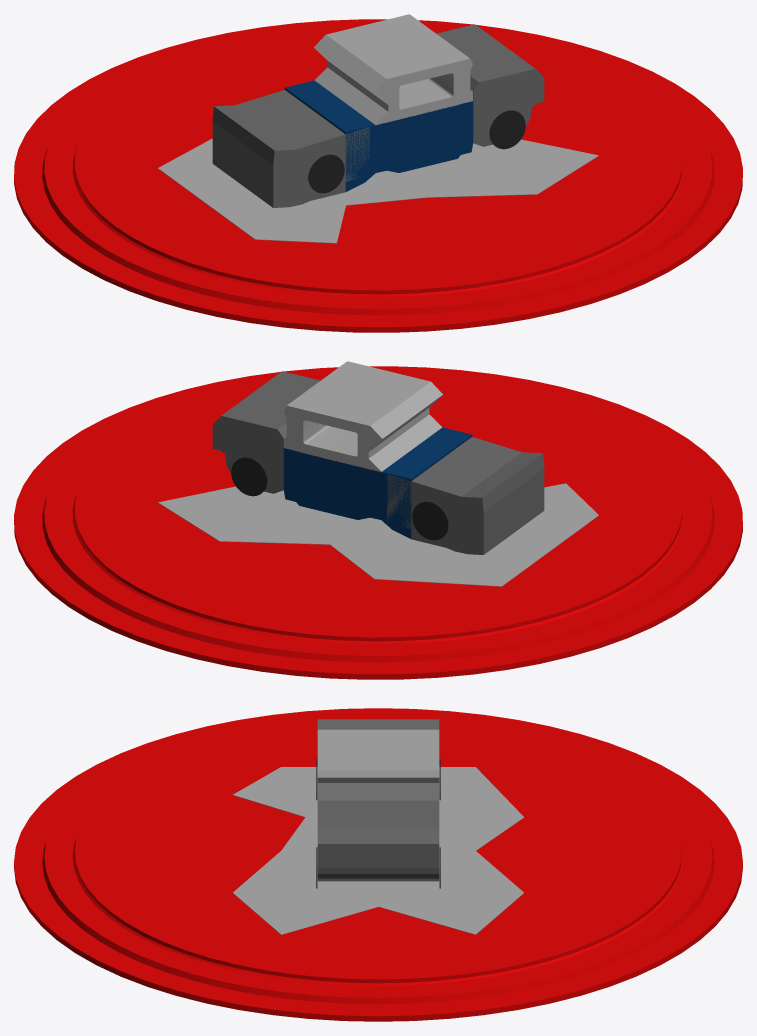
3 views of the same model, one above another, from view 1: azimuth 30°, elevation 25°; view 2: azimuth 150°, elevation 25°; view 3: azimuth 270°, elevation 25° (orthographic).
Visible parts, largest first — view 1: pickup; view 2: pickup; view 3: pickup.
Part boxes in pixels (x1=…): pickup: x1=14, y1=14, x2=742, y2=332; pickup: x1=14, y1=361, x2=742, y2=679; pickup: x1=14, y1=708, x2=742, y2=1021.
Size of the model in its own units: 4.5 by 0.867 by 4.5.
